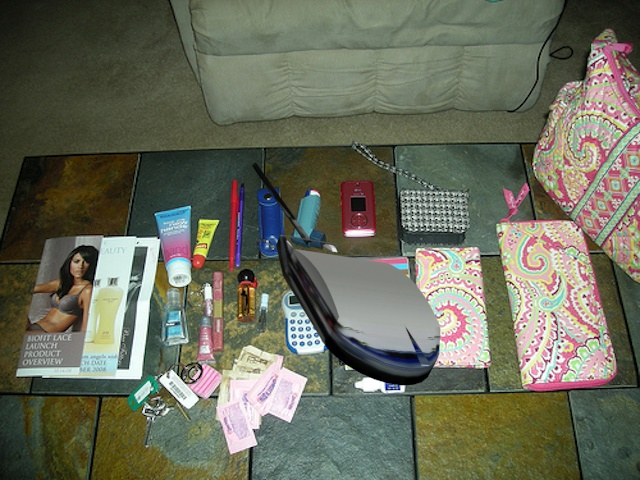mouse: (249, 161, 449, 392)
